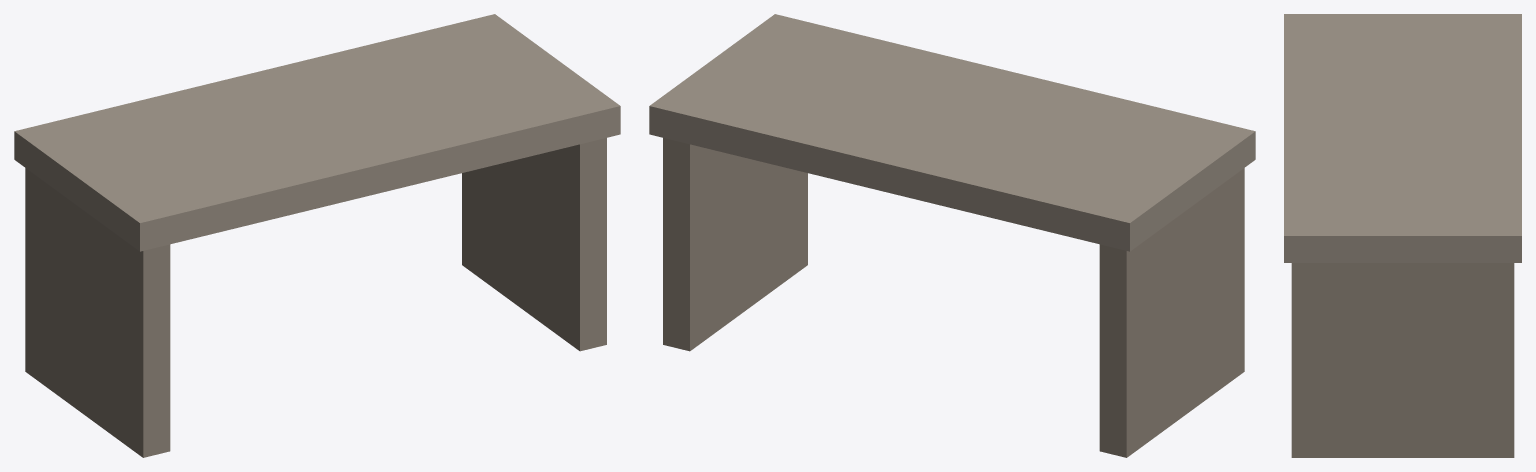
Rendered from M_Desk.FBX.
3 views of the same model, side by side, from view 1: azimuth 30°, elevation 25°; view 2: azimuth 150°, elevation 25°; view 3: azimuth 270°, elevation 25° (orthographic). The views are drawn at different scales.
Visible parts, largest first — view 1: Box032; view 2: Box032; view 3: Box032.
Part boxes in pixels (left/top/right/bottom): Box032: left=14, top=14, right=620, bottom=457; Box032: left=649, top=14, right=1255, bottom=457; Box032: left=1284, top=14, right=1521, bottom=457.
Size of the model in its own units: 177 by 80 by 84.06.
